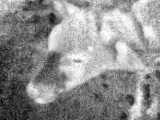eye: (67, 56, 86, 67)
